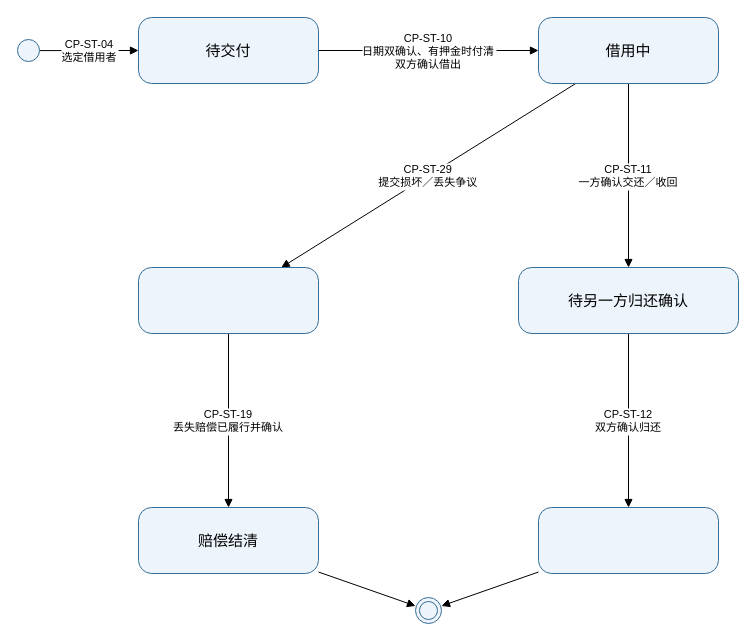
The diagram is 756 pixels wide and 641 high, and some of its shapes have lost their labels. Here are the shapes that lost their labels. From the top down, the box of each, then its label:
(138, 266, 318, 334): 争议处理中
(538, 506, 718, 574): 已归还
